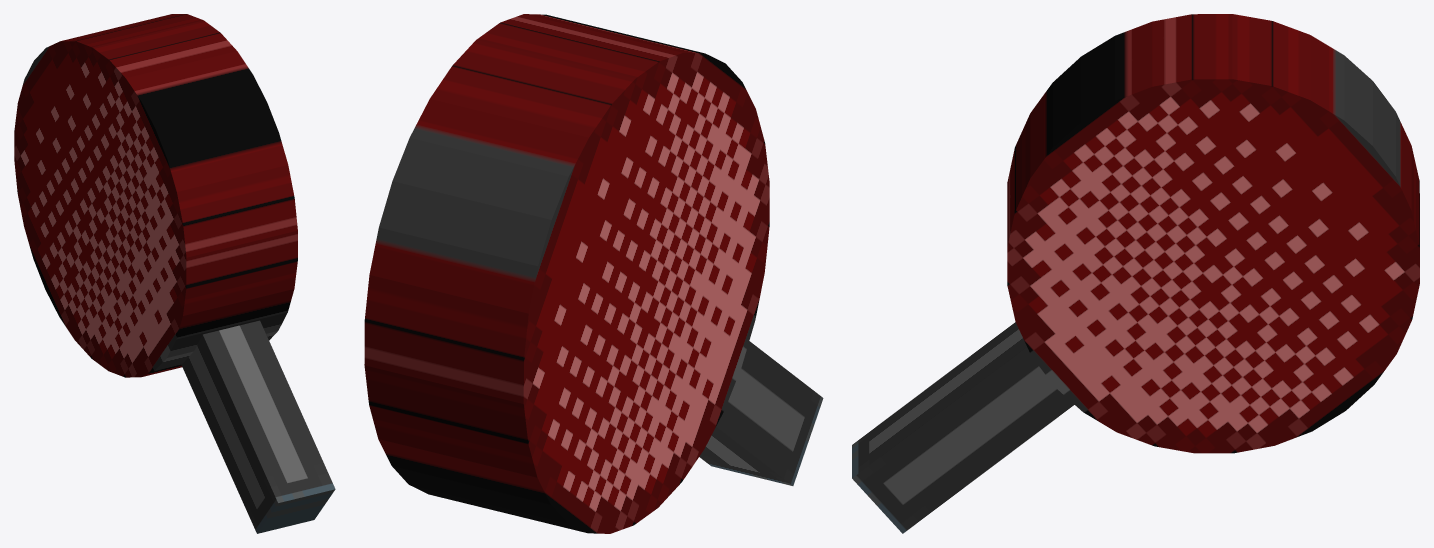
File: RedLever.glb
3 views of the same model, side by side, from view 1: azimuth 30°, elevation 25°; view 2: azimuth 150°, elevation 25°; view 3: azimuth 270°, elevation 25° (orthographic). The views are drawn at different scales.
Parts seen in each view (by area): view 1: Cube.001; view 2: Cube.001; view 3: Cube.001.
Part boxes in pixels (bbox=[...]): Cube.001: bbox=[14, 14, 335, 533]; Cube.001: bbox=[364, 14, 823, 533]; Cube.001: bbox=[852, 14, 1419, 533].
Size of the model in its own units: 0.9934 by 3.34 by 3.66.
Materials: 2 (2 with a texture image).
